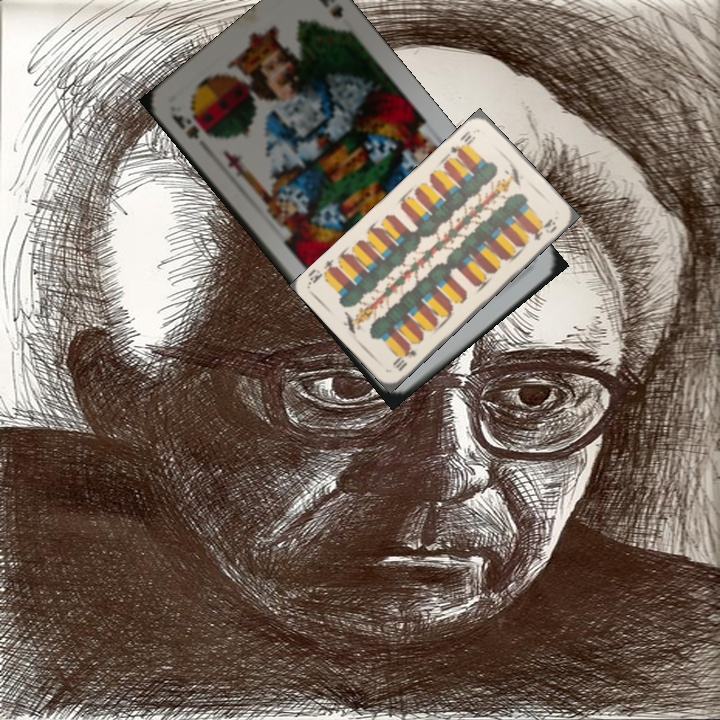E10: (388, 339, 419, 374), (446, 126, 478, 159)
SK: (167, 110, 213, 142)
